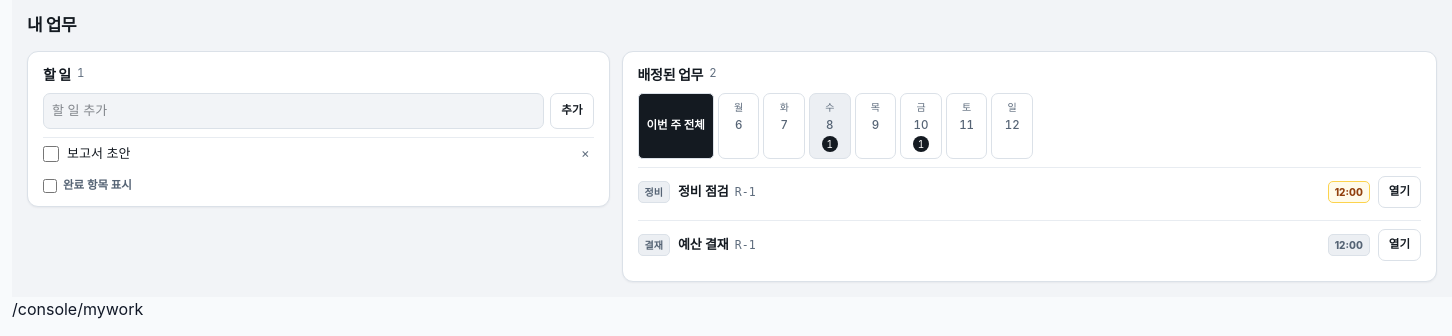
Test case: MyWorkBody › filters assigned items to a clicked day using real due dates
Expected: the text "정비 점검" is shown, [678,182,729,202]
Click the button "목 9" at point(875, 126), box [855,92,896,159]
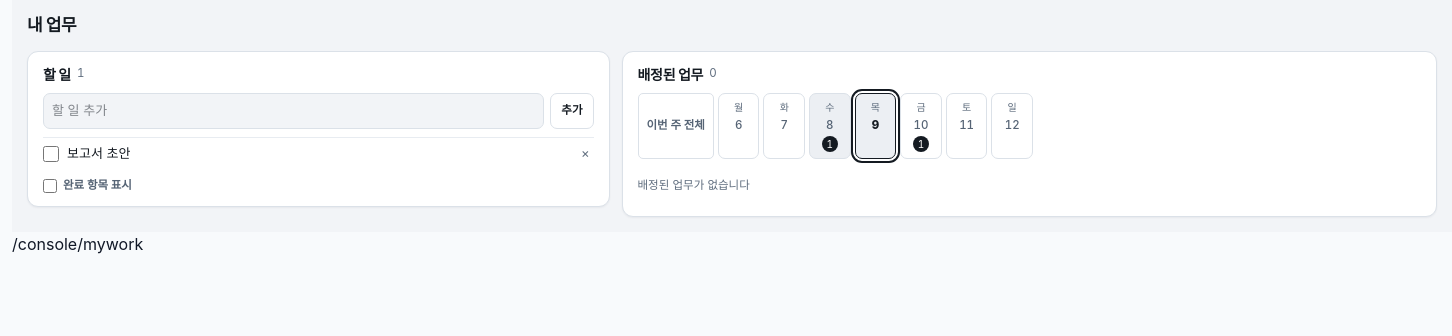
Result: the text "배정된 업무가 없습니다" is shown at [638,178,750,192]
// Clicking Wednesday 8th brings the 정비 item back.
Click the button "수 8 1" at point(830, 126), box [809,92,851,159]
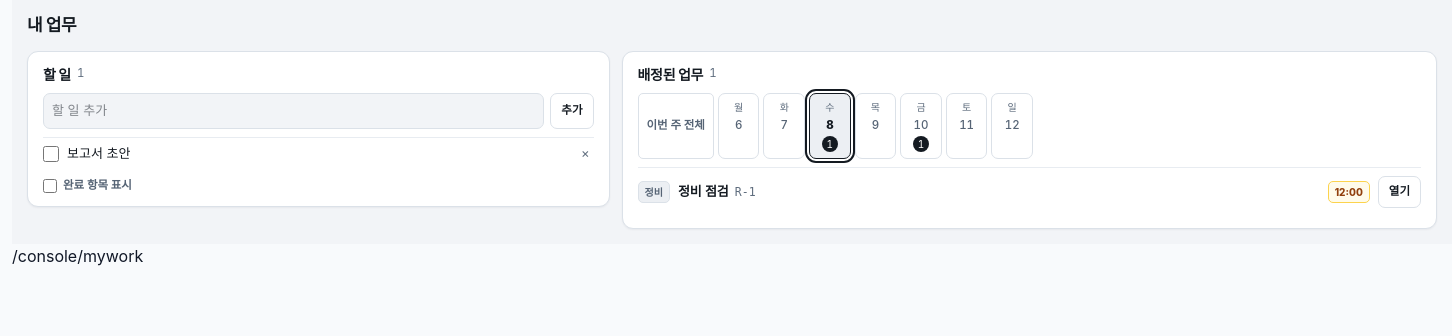
Result: the text "정비 점검" is shown at [678,182,729,202]
